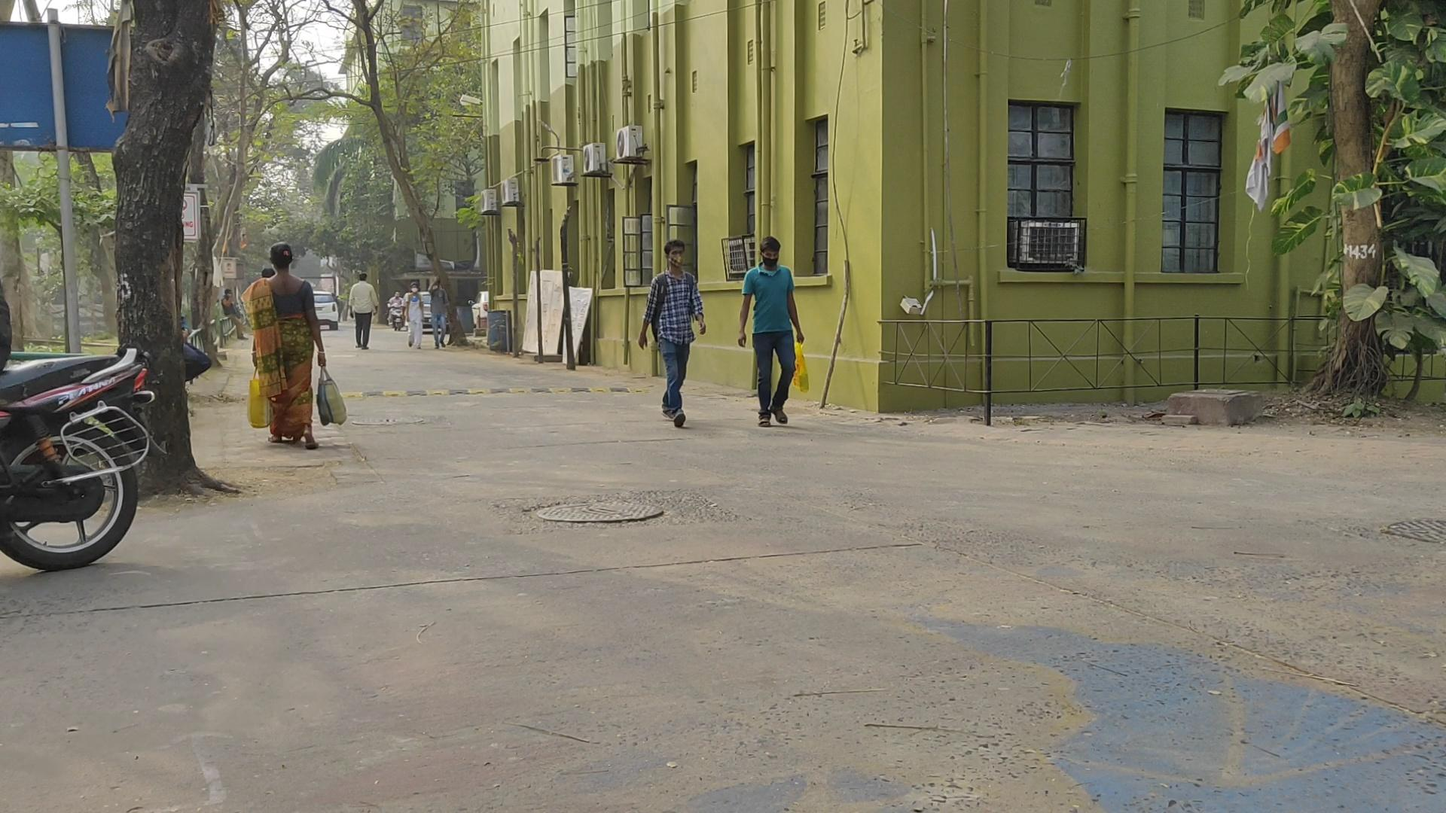bike: (1, 272, 166, 576)
car: (298, 291, 338, 333)
